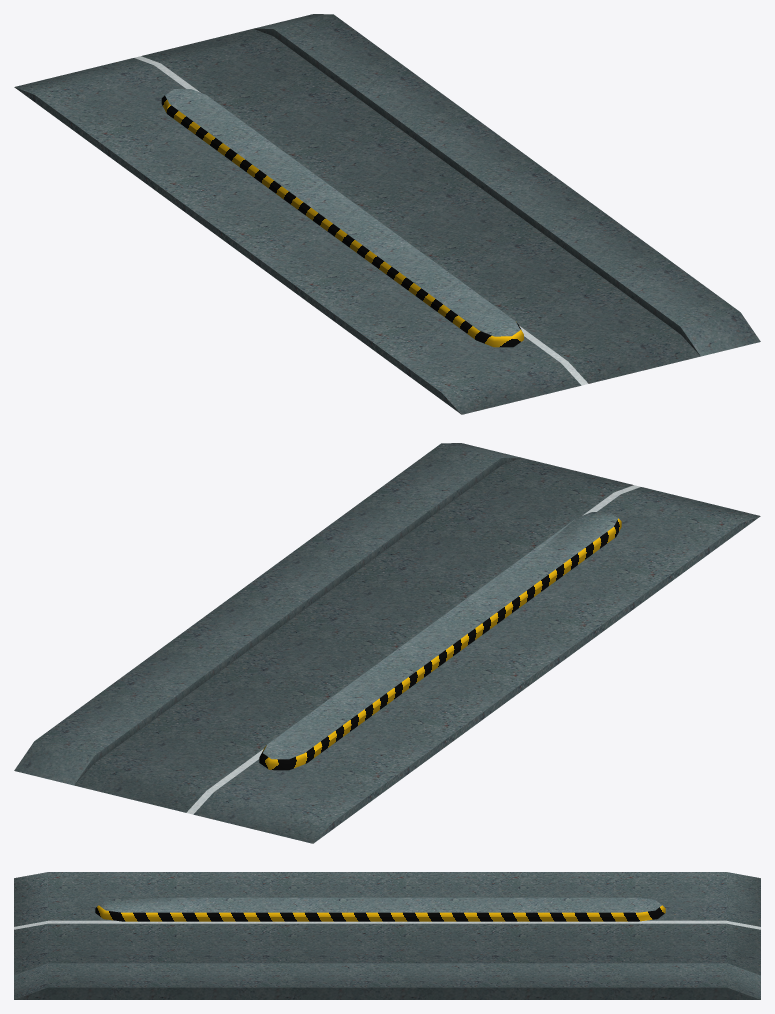
File: ROMEN_ST00_L.glb
The picture shows the model from 3 angles, top to bottom: view 1: azimuth 30°, elevation 25°; view 2: azimuth 150°, elevation 25°; view 3: azimuth 270°, elevation 25°; orthographic projection. The views are drawn at different scales.
Visible parts, largest first — view 1: Model; view 2: Model; view 3: Model.
Boxes of the visible parts, bbox=[...] form: Model: bbox=[14, 14, 760, 414]; Model: bbox=[14, 443, 760, 843]; Model: bbox=[14, 872, 760, 999].
Size of the model in its own units: 42.42 by 2.5 by 110.
Materials: 3 (3 with a texture image).
